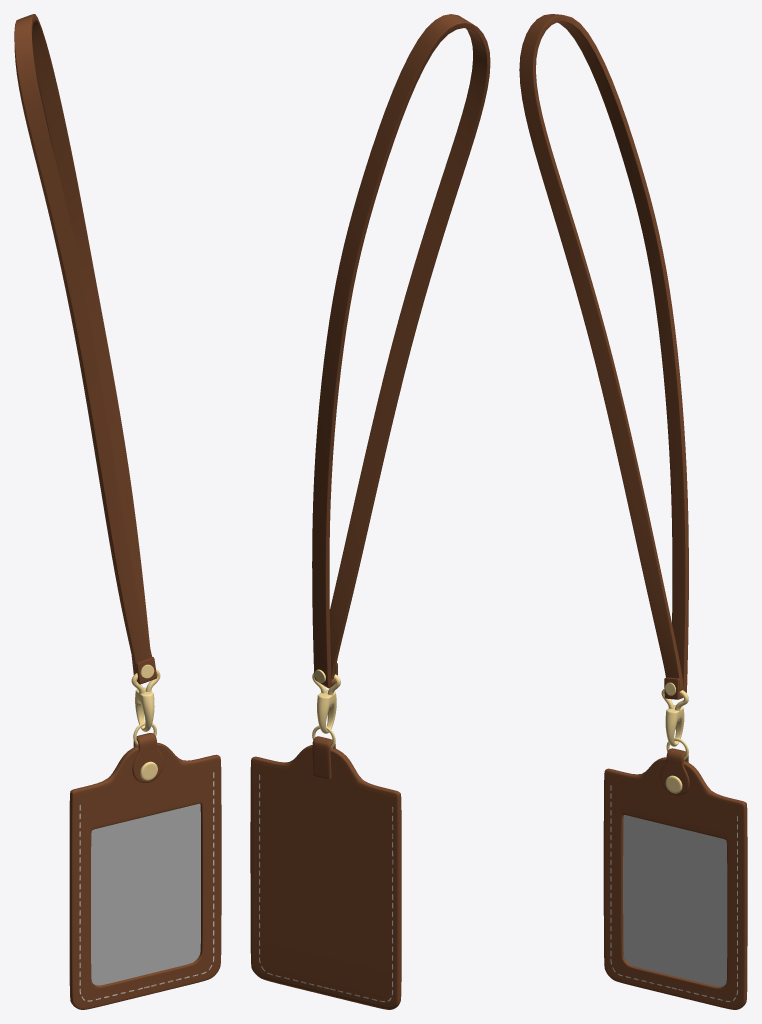
File: Key_car_holder.fbx
The picture shows the model from 3 angles, left to right: view 1: azimuth 30°, elevation 25°; view 2: azimuth 150°, elevation 25°; view 3: azimuth 330°, elevation 25°; orthographic projection. The views are drawn at different scales.
Parts seen in each view (by area): view 1: pasted__pPlane1, polySurface3, polySurface2, polySurface10, pasted__polySurface4; view 2: polySurface3, pasted__pPlane1, polySurface10, pasted__polySurface4; view 3: pasted__pPlane1, polySurface3, polySurface2, polySurface10, pasted__polySurface4.
Boxes of the visible parts, x1=… form: pasted__pPlane1: x1=14, y1=14, x2=156, y2=684; polySurface3: x1=69, y1=742, x2=221, y2=1009; polySurface2: x1=91, y1=803, x2=200, y2=985; polySurface10: x1=132, y1=733, x2=163, y2=782; pasted__polySurface4: x1=135, y1=687, x2=154, y2=731; polySurface3: x1=250, y1=745, x2=401, y2=1009; pasted__pPlane1: x1=312, y1=14, x2=490, y2=688; polySurface10: x1=312, y1=736, x2=335, y2=779; pasted__polySurface4: x1=317, y1=689, x2=336, y2=733; pasted__pPlane1: x1=519, y1=14, x2=688, y2=699; polySurface3: x1=603, y1=757, x2=747, y2=1009; polySurface2: x1=623, y1=815, x2=727, y2=986; polySurface10: x1=660, y1=748, x2=689, y2=795; pasted__polySurface4: x1=665, y1=705, x2=684, y2=746.
Bounding box in the file's own units: 41.59 × 182 × 15.7.
4 materials, 2 textured.
